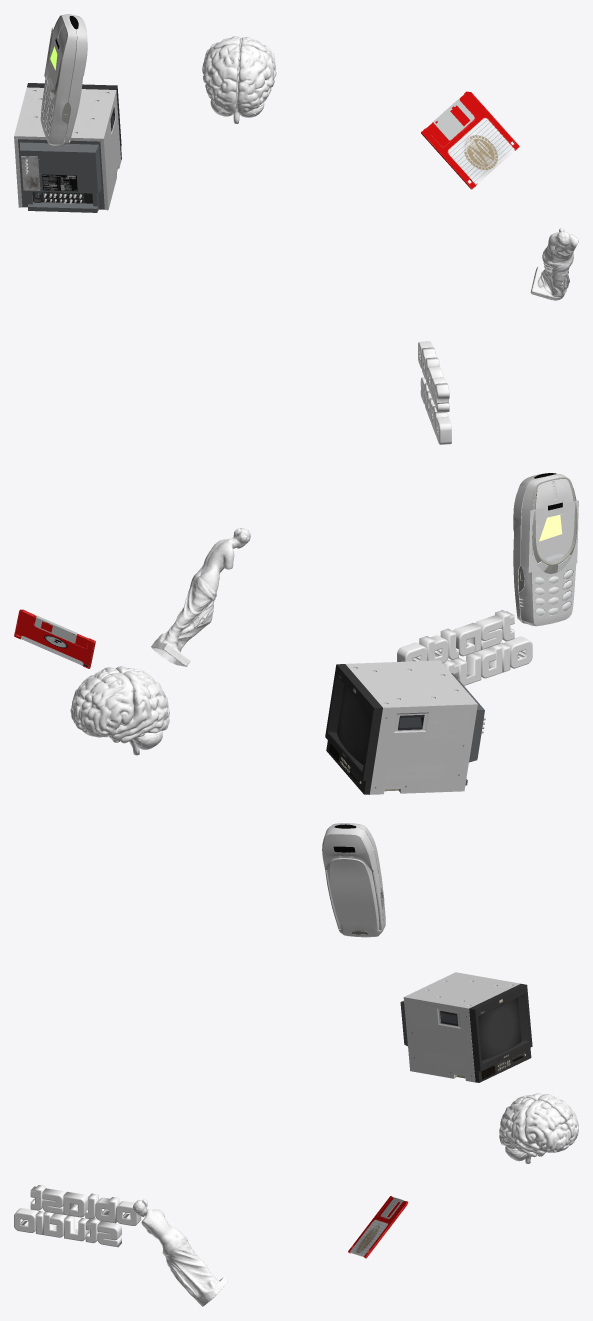
The model's file is oblastbackground5_draco.glb.
3 renders of one model, top to bottom at view 1: azimuth 30°, elevation 25°; view 2: azimuth 150°, elevation 25°; view 3: azimuth 270°, elevation 25°, orthographic. The views are drawn at different scales.
Parts seen in each view (by area): view 1: Brain, back_case_low_crt_back_0, Body_Material_0, top_case_low_crt_top_0, Venus_von_Milo, Nokia; view 2: Brain, top_case_low_crt_top_0, front_case_low_crt_front_0, Venus_von_Milo, Body_Material_0, TextOrienter, Nokia, back_case_low_crt_back_0; view 3: Brain, top_case_low_crt_top_0, front_case_low_crt_front_0, Venus_von_Milo, Body_Material_0.
Boxes of the visible parts, bbox=[...] form: Brain: bbox=[40, 14, 451, 444]; back_case_low_crt_back_0: bbox=[18, 139, 105, 212]; Body_Material_0: bbox=[421, 91, 519, 189]; top_case_low_crt_top_0: bbox=[14, 87, 121, 210]; Venus_von_Milo: bbox=[530, 228, 578, 300]; Nokia: bbox=[46, 15, 78, 145]; Brain: bbox=[70, 473, 577, 755]; top_case_low_crt_top_0: bbox=[345, 660, 477, 794]; front_case_low_crt_front_0: bbox=[325, 664, 400, 794]; Venus_von_Milo: bbox=[151, 528, 250, 666]; Body_Material_0: bbox=[14, 609, 95, 668]; TextOrienter: bbox=[528, 500, 578, 572]; Nokia: bbox=[518, 473, 577, 623]; back_case_low_crt_back_0: bbox=[451, 673, 485, 785]; Brain: bbox=[14, 823, 578, 1247]; top_case_low_crt_top_0: bbox=[403, 972, 520, 1082]; front_case_low_crt_front_0: bbox=[455, 983, 532, 1082]; Venus_von_Milo: bbox=[133, 1199, 227, 1306]; Body_Material_0: bbox=[348, 1196, 408, 1258].
Bounding box in the file's own units: 19.41 × 13.21 × 21.4.
Materials: 8 (8 with a texture image).
